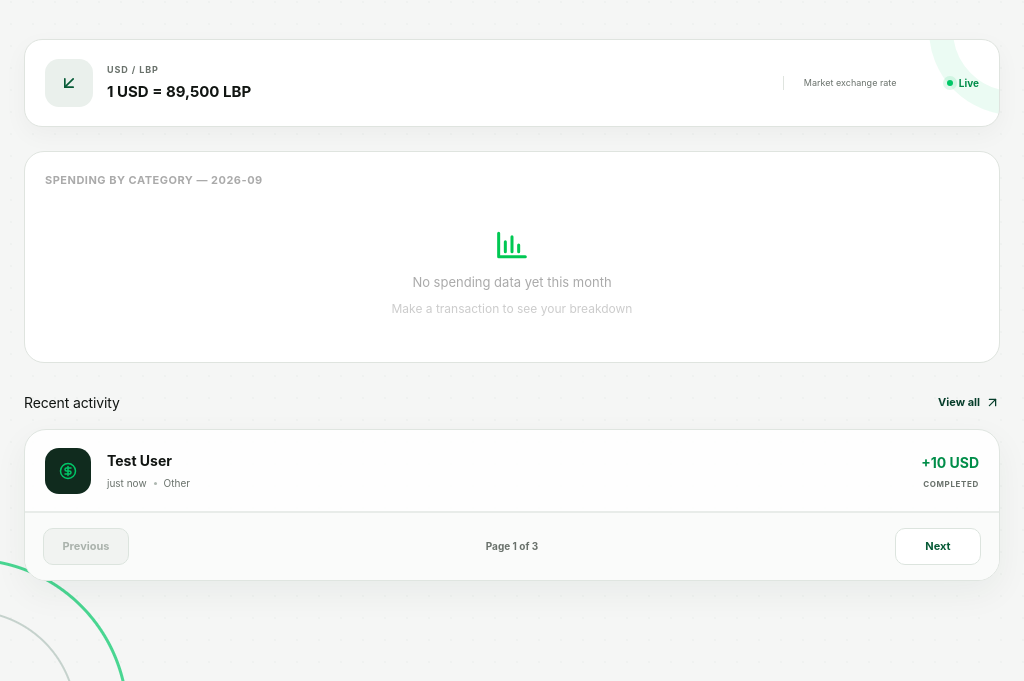
Test: DashboardPage › loads the next page of recent transactions
(page scrolled)
Expected: the text "Page 1 of 3" is shown, [486,539,538,554]
Expected: the button with aria-label "Previous transaction page" is disabled, [43,528,129,565]
Click the button with aria-label "Next transaction page" at x=938, y=547, box [895,528,981,565]
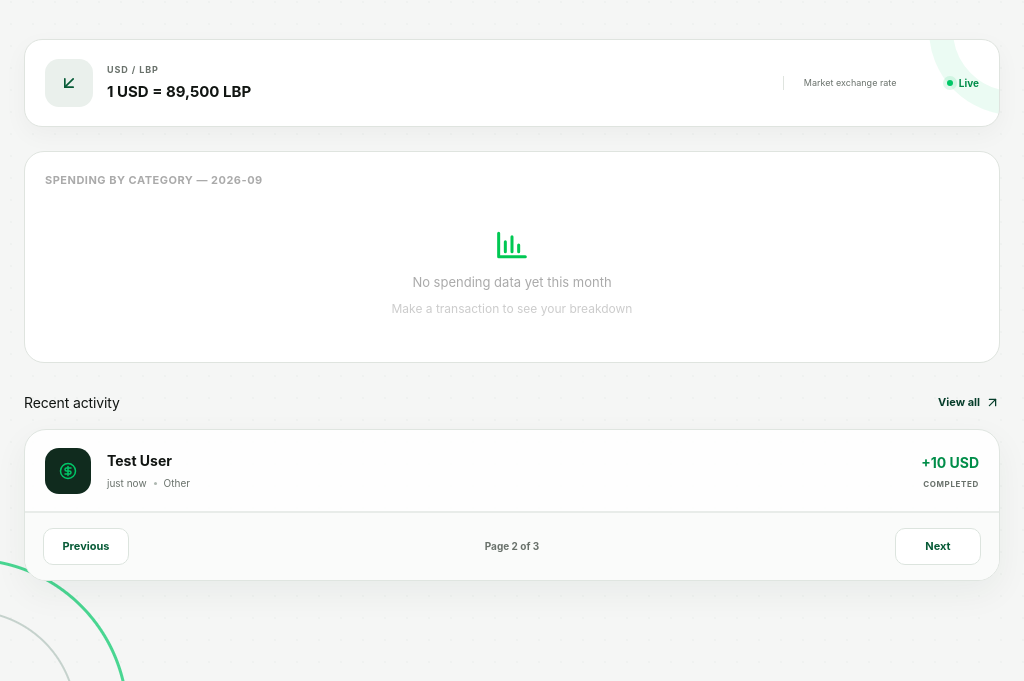
Expected: the text "Page 2 of 3" is shown, [485,539,539,554]
Expected: the button with aria-label "Previous transaction page" is enabled, [43,528,129,565]
